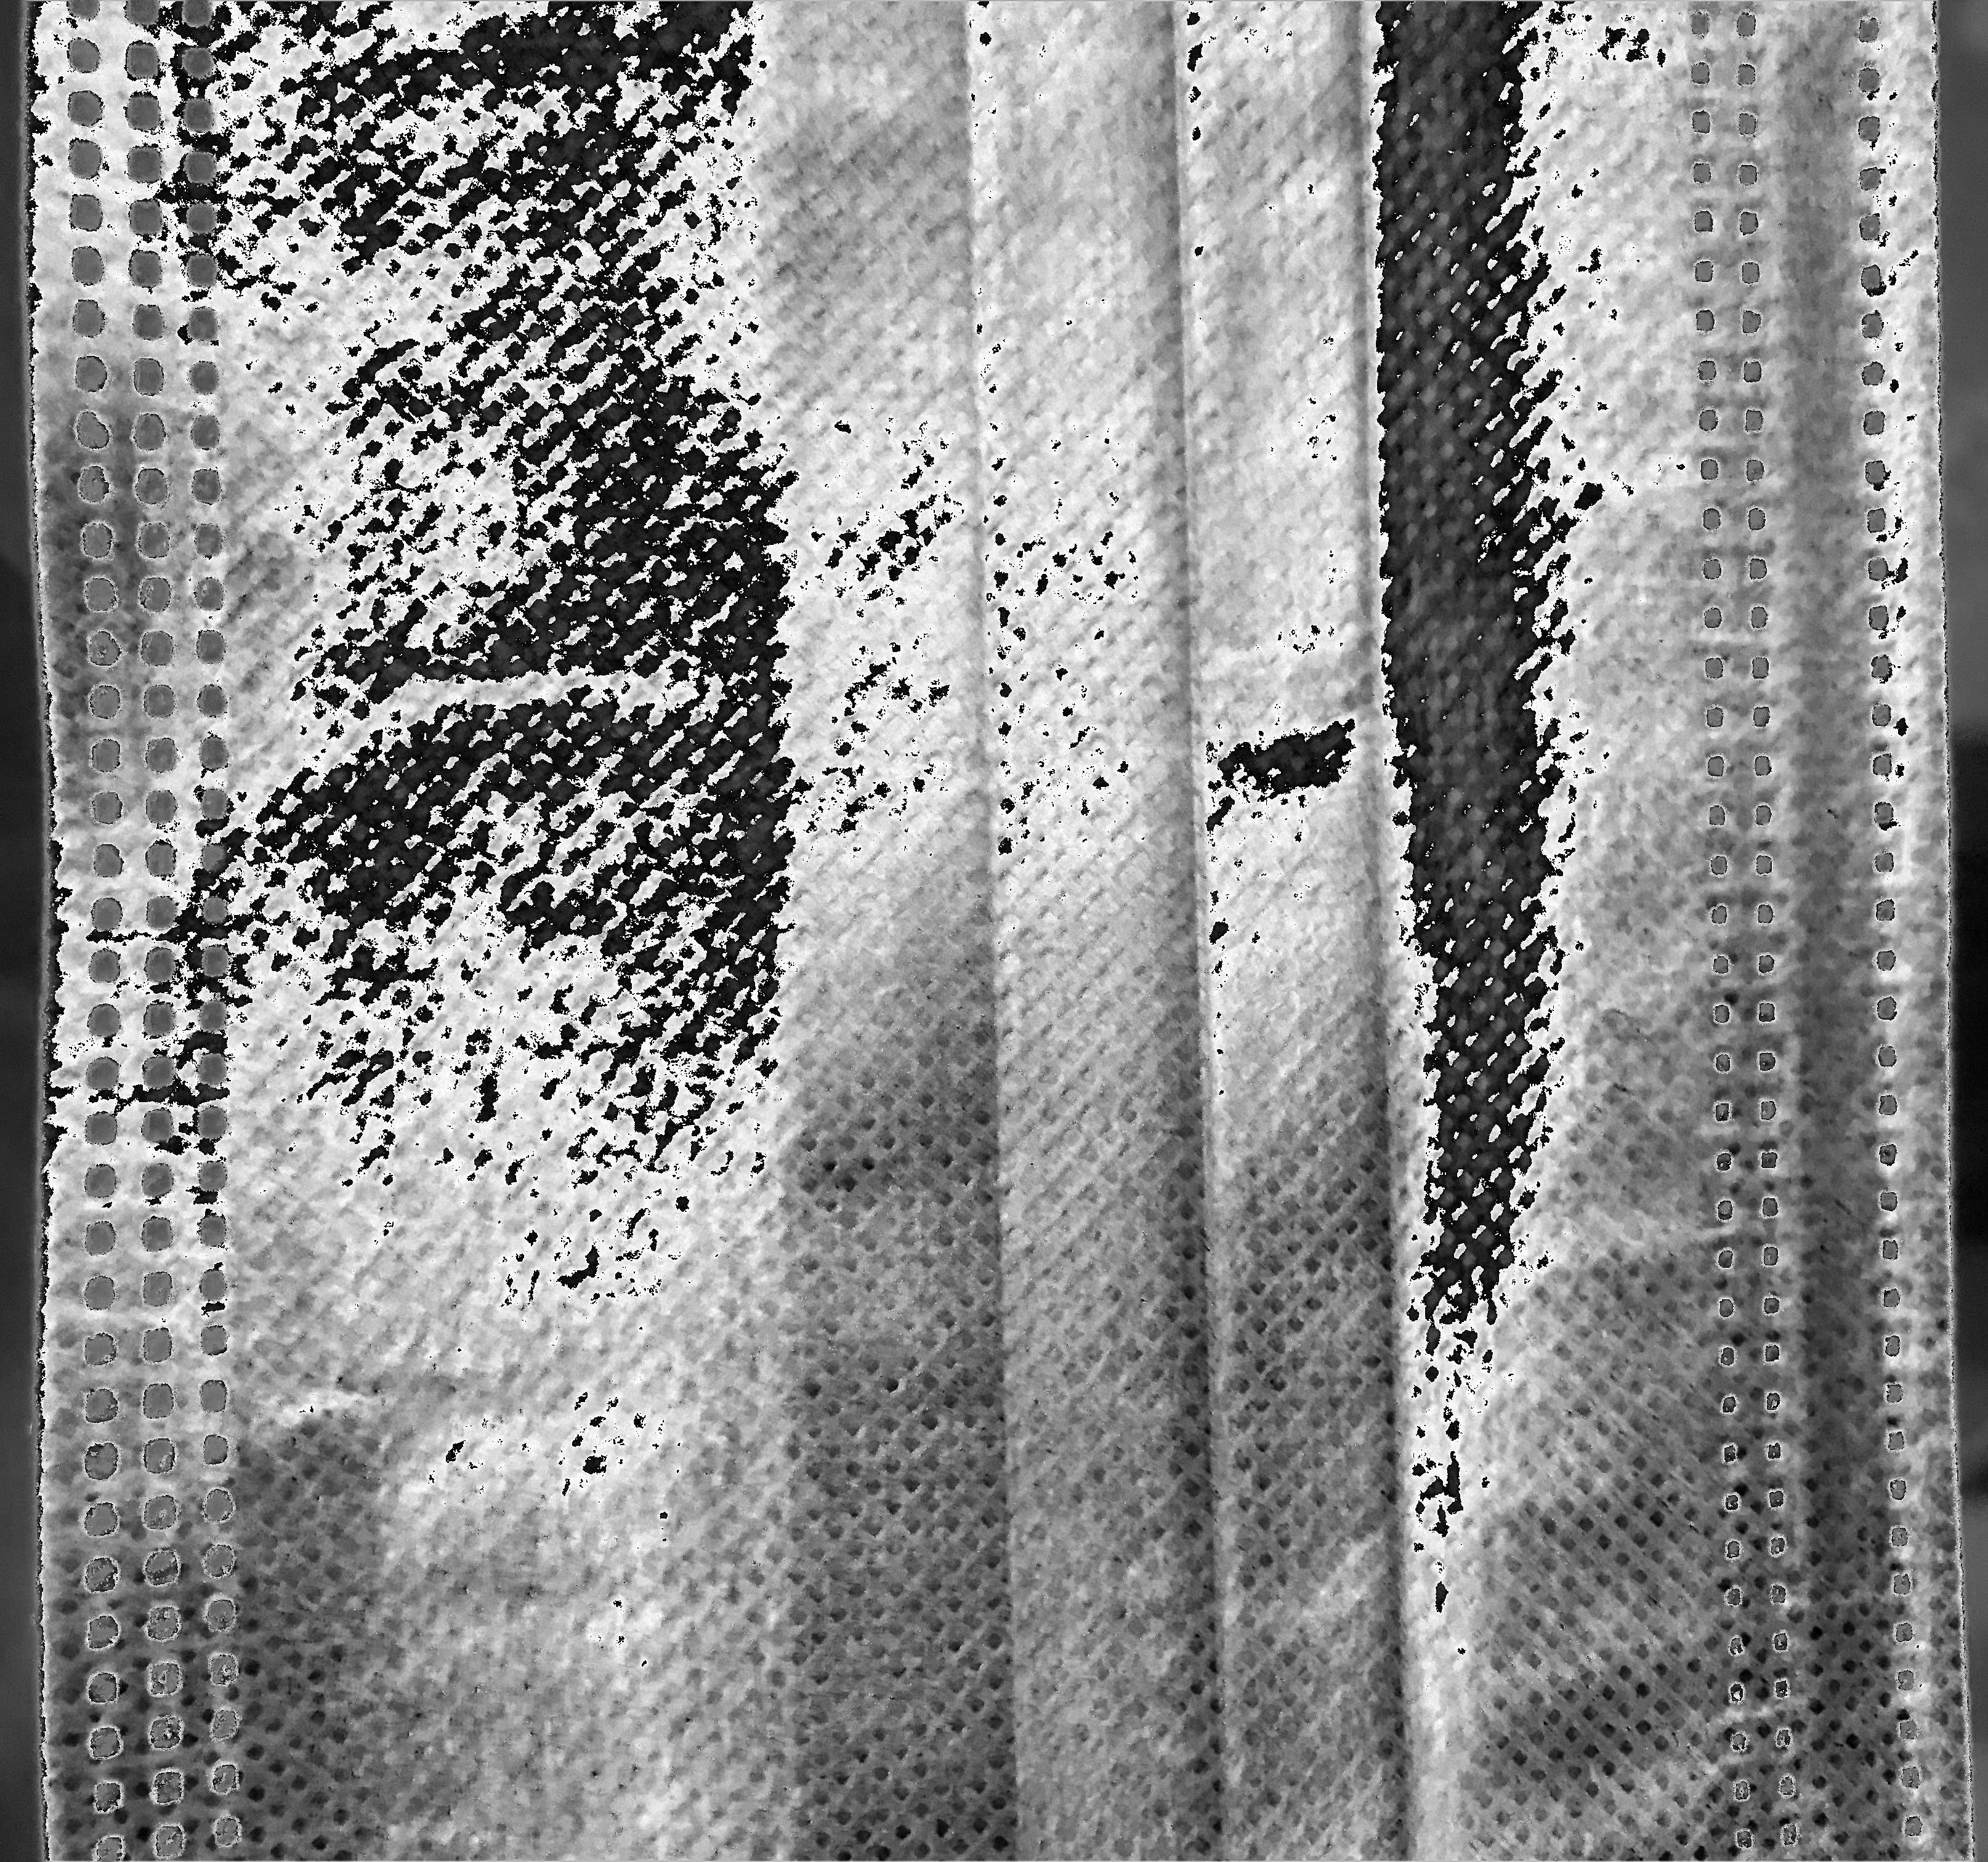High GSM: (233, 3, 1699, 1862)
